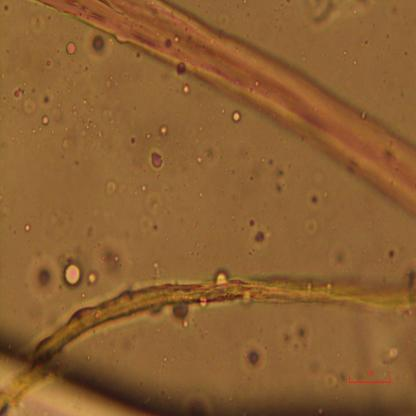Background material: (275, 318, 319, 354), (83, 28, 116, 61), (97, 238, 124, 276), (138, 193, 164, 231), (238, 344, 265, 378), (33, 259, 59, 293), (300, 1, 335, 22), (63, 260, 86, 291), (243, 219, 266, 249), (169, 305, 193, 330), (272, 164, 288, 200), (321, 367, 344, 392), (82, 117, 102, 142), (18, 96, 38, 120), (328, 242, 347, 266), (209, 266, 228, 288), (82, 270, 102, 290), (305, 219, 325, 239), (379, 244, 400, 262), (102, 180, 122, 198), (308, 193, 326, 213), (381, 346, 398, 367), (147, 152, 164, 172), (228, 110, 245, 129), (215, 12, 231, 31), (154, 123, 171, 139), (66, 38, 77, 61), (126, 129, 139, 147), (202, 148, 215, 164), (68, 104, 81, 119), (264, 157, 276, 173), (190, 153, 206, 165), (12, 86, 26, 99), (38, 114, 50, 128), (183, 81, 193, 97), (42, 92, 51, 108), (105, 76, 115, 88), (63, 139, 71, 153), (139, 183, 151, 192), (44, 57, 53, 69), (2, 1, 11, 12), (195, 126, 207, 134), (25, 220, 32, 233), (351, 57, 359, 68)
Microfibre: (37, 0, 416, 226), (1, 262, 416, 408)
